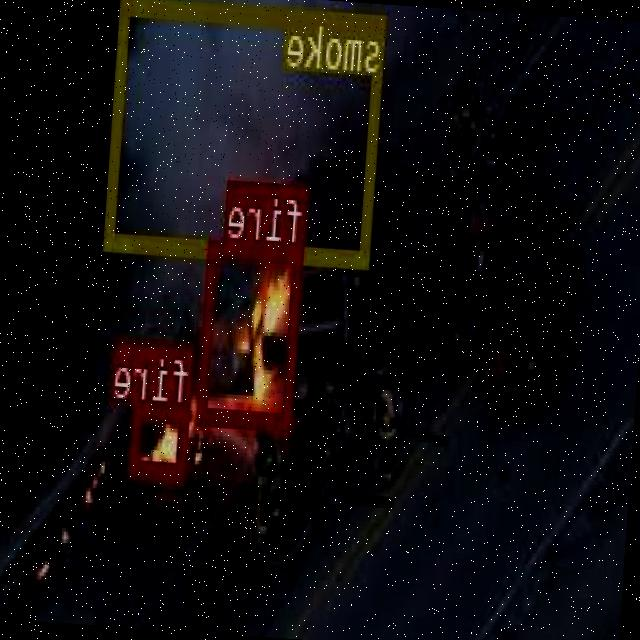fire: (200, 240, 304, 426), (132, 401, 190, 476)
smoke: (106, 0, 387, 264)
